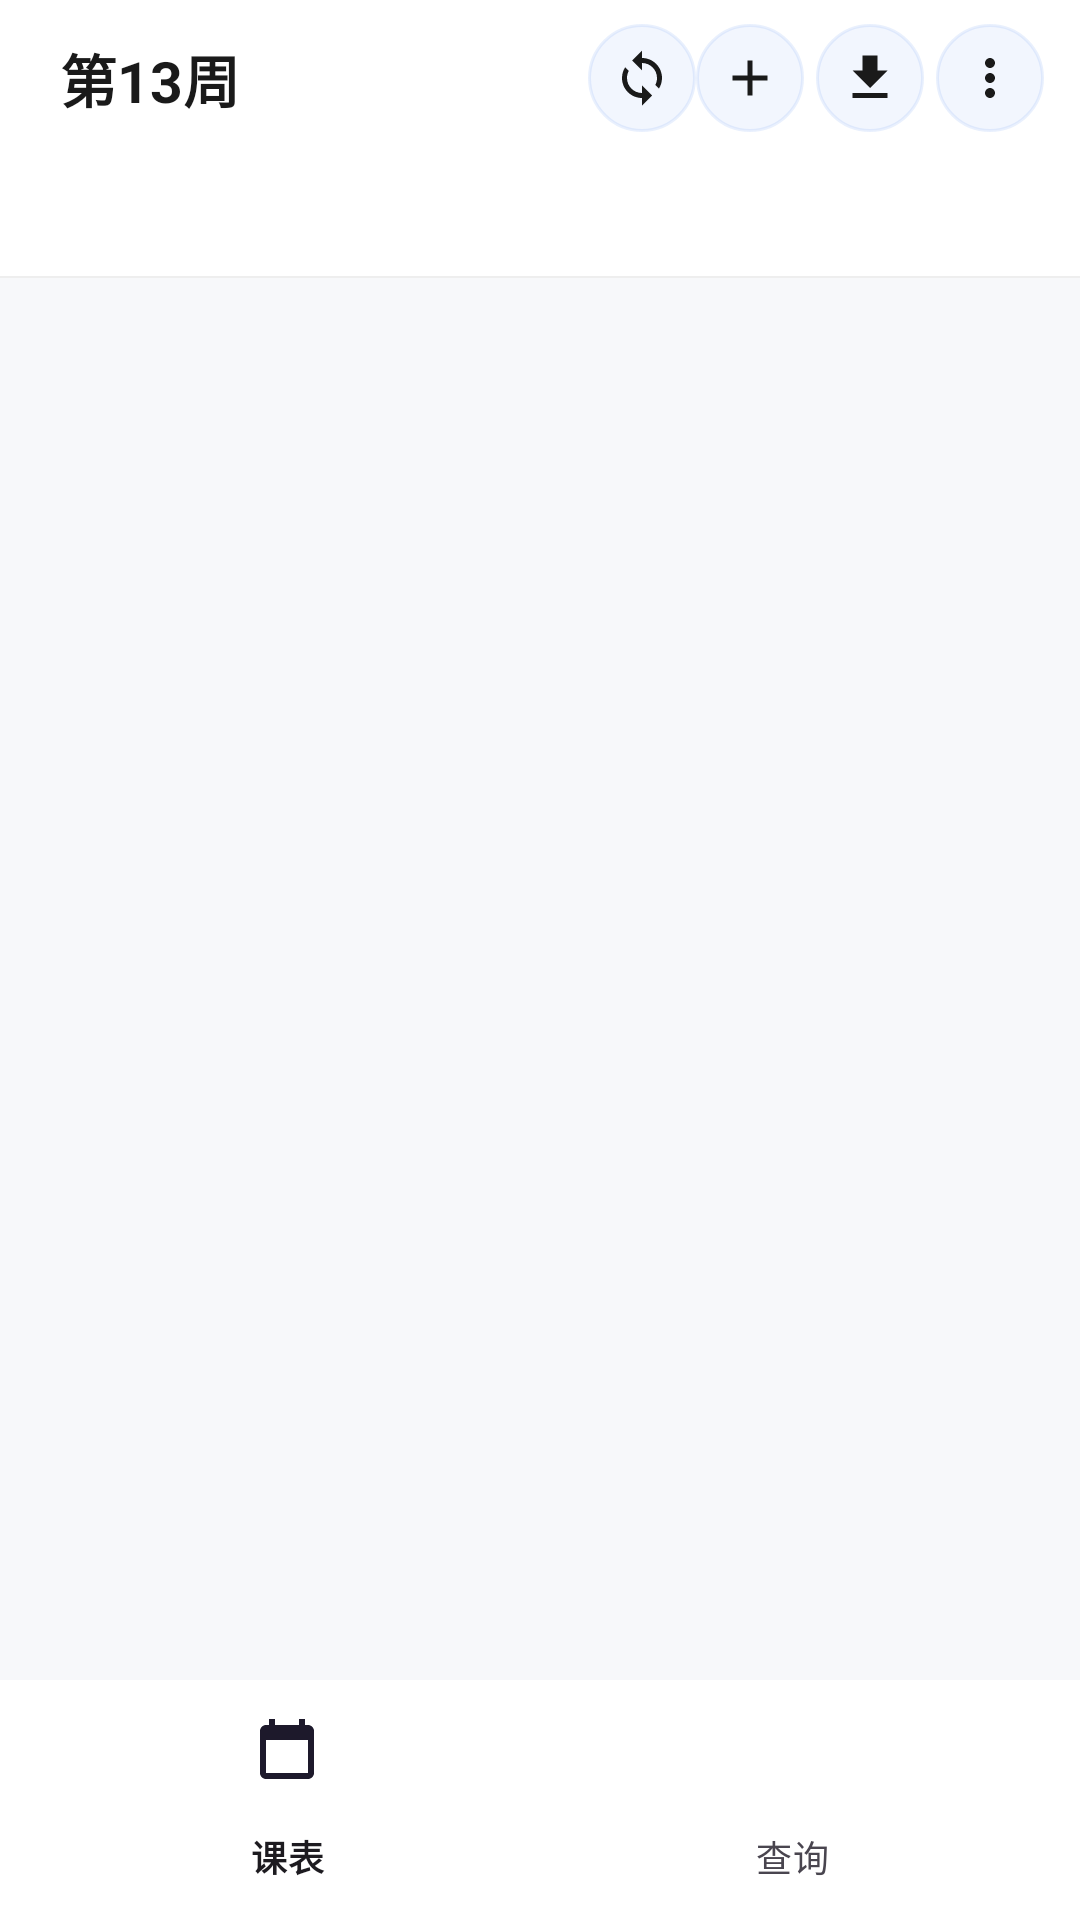

Locate icon controls on the screen. Image size 1080*1920, boxes as {"x1": x1, "y1": y1, "x2": x2, "y2": y2}.
add: {"x1": 696, "y1": 24, "x2": 804, "y2": 132}
download: {"x1": 816, "y1": 24, "x2": 924, "y2": 132}
more: {"x1": 936, "y1": 24, "x2": 1044, "y2": 132}
同步课表: {"x1": 588, "y1": 24, "x2": 696, "y2": 132}
